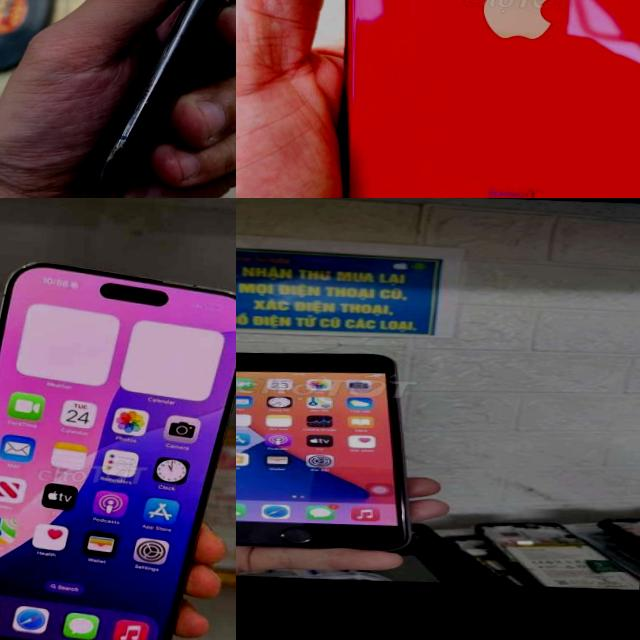gen_11: (316, 0, 640, 198)
gen_15: (0, 243, 236, 640)
gen_6: (236, 344, 437, 559)
gen_x_xs: (86, 0, 236, 198)
